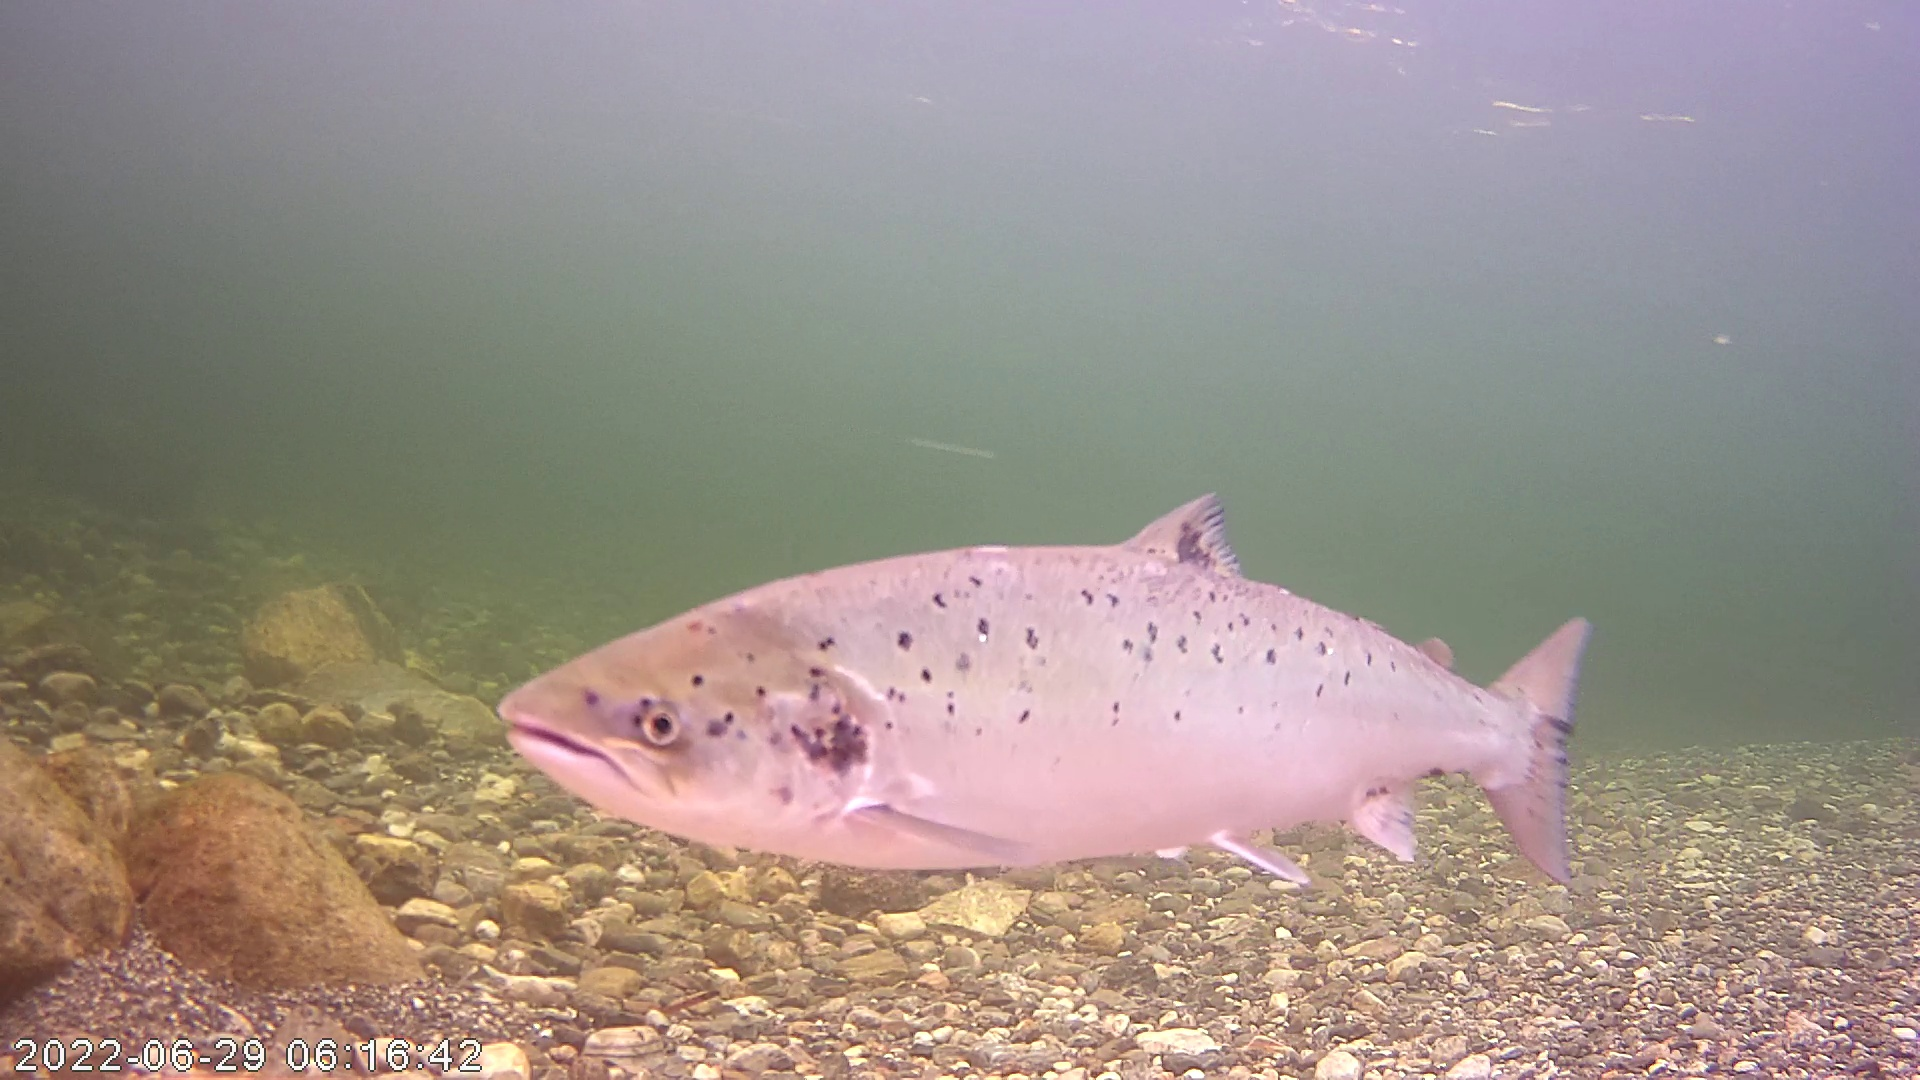salmon: (497, 375, 1577, 882)
